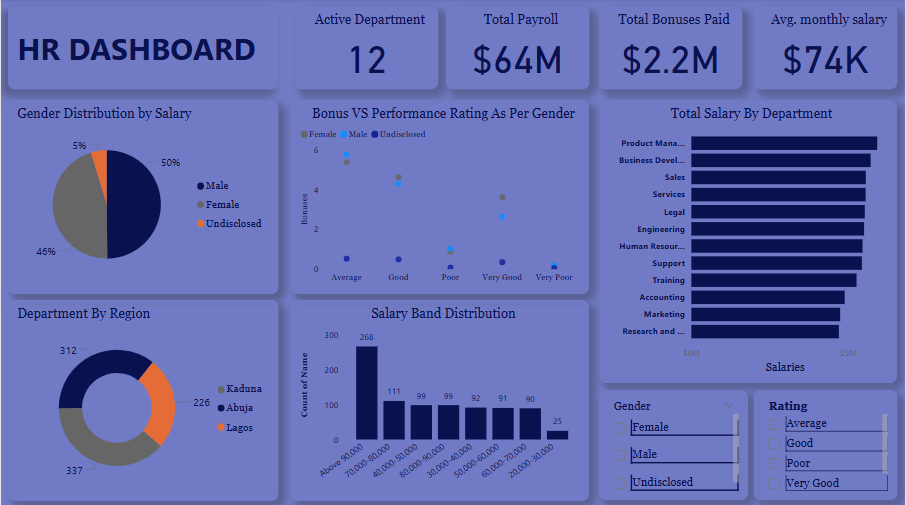

The dashboard page shown, as its layout file describes it:
{"tool":"powerbi","page":{"name":"HR DASHBOARD","canvas":[1280,720],"ordinal":0},"visuals":[{"type":"textbox","box":[9.9,9.9,382.7,117.6],"z":0},{"type":"card","title":"Active Department","fields":{"Values":["Count(bonus mapping.Department)"]},"box":[416.7,9.9,202.7,117.6],"z":1000},{"type":"card","title":"Total Payroll","fields":{"Values":["Sum(Employee Dataset.Salary)"]},"box":[630.7,9.9,202.7,117.6],"z":2000},{"type":"card","title":"Total Bonuses Paid","fields":{"Values":["Sum(Employee Dataset.Annual Bonus)"]},"box":[847.6,9.9,202.7,117.6],"z":3000},{"type":"card","title":"Avg. monthly salary","fields":{"Values":["Avg(Employee Dataset.Salary)"]},"box":[1067.2,9.9,202.7,117.6],"z":4000},{"type":"pieChart","title":"Gender Distribution by Salary","fields":{"Y":["Sum(Employee Dataset.Salary)"],"Category":["Employee Dataset.Gender"]},"box":[9.9,143.1,382.7,275],"z":5000},{"type":"barChart","title":"Total Salary By Department","fields":{"Y":["Sum(Employee Dataset.Salary)"],"Category":["Employee Dataset.Department"]},"box":[847.6,143.1,422.4,401.1],"z":6000},{"type":"scatterChart","title":"Bonus VS Performance Rating  As Per Gender","fields":{"X":["Employee Dataset.Rating"],"Y":["Sum(Employee Dataset.Bonus Value)"],"Series":["Employee Dataset.Gender"]},"box":[411,143.1,422.4,275],"z":7000},{"type":"donutChart","title":"Department By Region","fields":{"Y":["CountNonNull(Employee Dataset.Department)"],"Category":["Employee Dataset.Region"]},"box":[9.9,426.6,382.7,284.9],"z":8000},{"type":"columnChart","title":"Salary Band Distribution","fields":{"Category":["Employee Dataset.Salary Band"],"Y":["CountNonNull(Employee Dataset.Name)"]},"box":[411,426.6,422.4,284.9],"z":9000},{"type":"slicer","title":"Gender Distribution by Salary","fields":{"Values":["Employee Dataset.Gender"]},"box":[847.6,554.2,211.2,155.9],"z":10000},{"type":"slicer","title":"Gender Distribution by Salary","fields":{"Values":["Employee Dataset.Rating"]},"box":[1067.2,554.2,202.7,155.9],"z":11000}]}

Visuals, with their boxes in screenshot pixels (x1, y1, x2, y2), scaled from the page's 1280x720 canvas onto the 906x505 screenshot:
textbox: bbox=(7, 7, 278, 89)
"Active Department" card: bbox=(295, 7, 438, 89)
"Total Payroll" card: bbox=(446, 7, 590, 89)
"Total Bonuses Paid" card: bbox=(600, 7, 743, 89)
"Avg. monthly salary" card: bbox=(755, 7, 899, 89)
"Gender Distribution by Salary" pieChart: bbox=(7, 100, 278, 293)
"Total Salary By Department" barChart: bbox=(600, 100, 899, 382)
"Bonus VS Performance Rating  As Per Gender" scatterChart: bbox=(291, 100, 590, 293)
"Department By Region" donutChart: bbox=(7, 299, 278, 499)
"Salary Band Distribution" columnChart: bbox=(291, 299, 590, 499)
"Gender Distribution by Salary" slicer: bbox=(600, 389, 749, 498)
"Gender Distribution by Salary" slicer: bbox=(755, 389, 899, 498)
